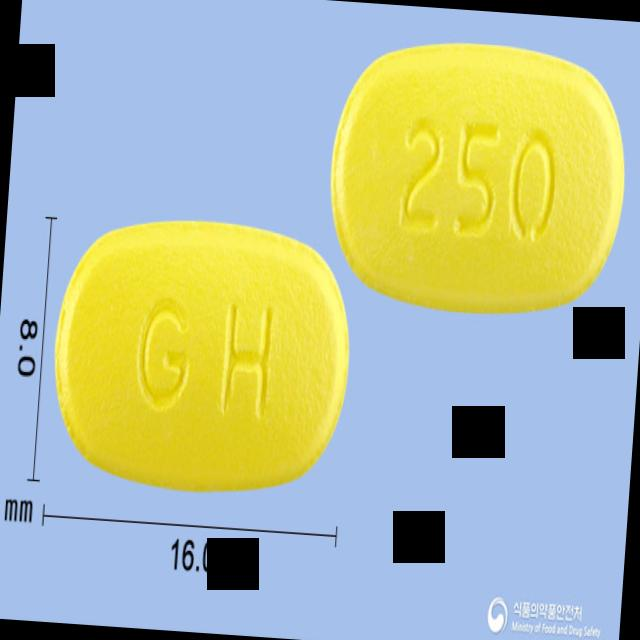Clana: (41, 204, 363, 508), (320, 27, 636, 330)
